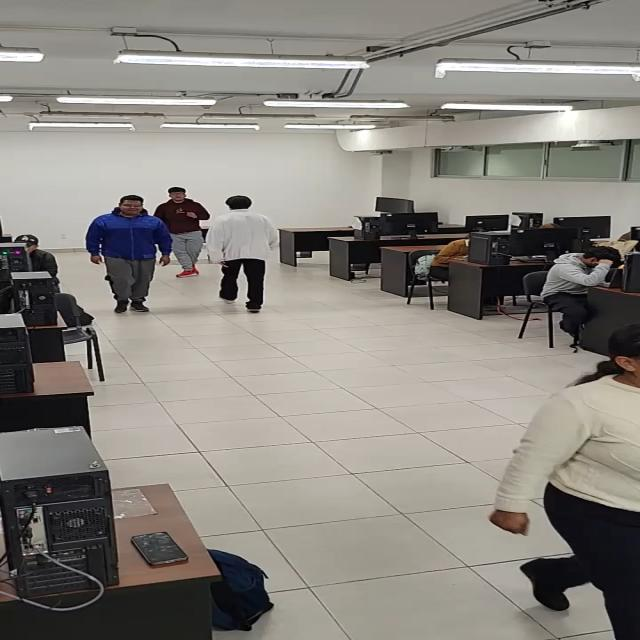Persona: (489, 320, 640, 640), (80, 190, 165, 318), (207, 193, 279, 317), (164, 184, 208, 279)
